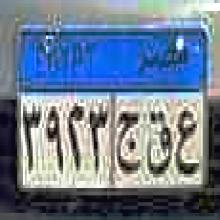2: (67, 104, 85, 172)
3: (19, 102, 43, 174), (88, 106, 110, 174)
9: (47, 106, 64, 172)
ain: (175, 103, 200, 175)
jeem: (115, 108, 142, 177)
qaaf: (145, 105, 172, 181)
